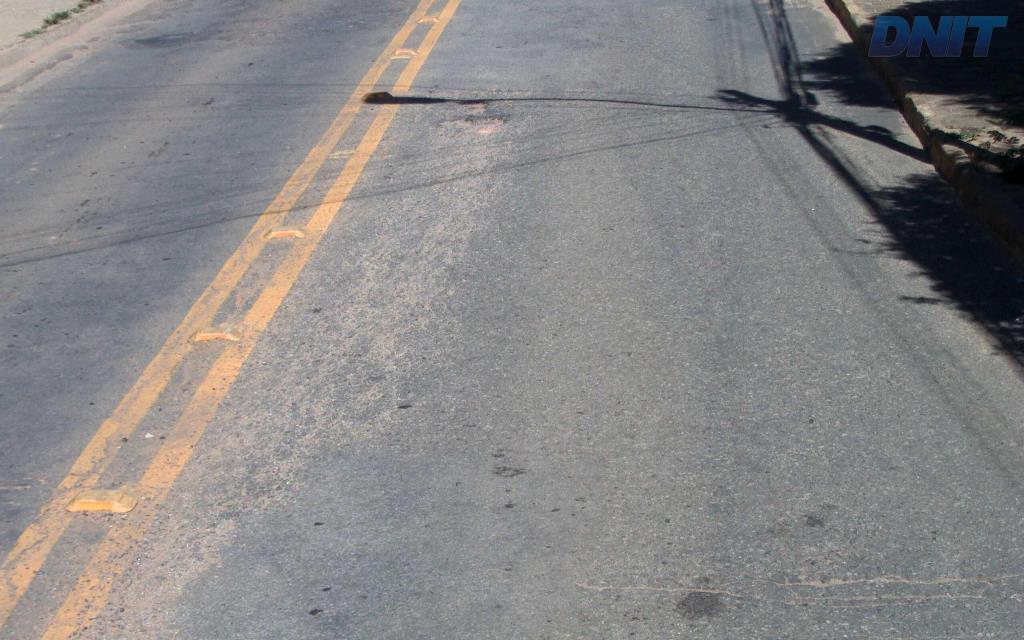pothole: (449, 110, 515, 136), (455, 93, 491, 111)
